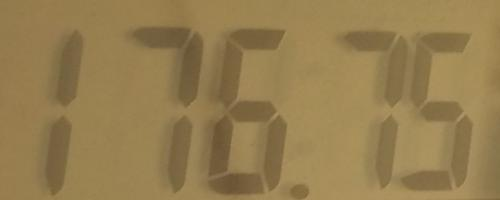.: (286, 181, 313, 200)
